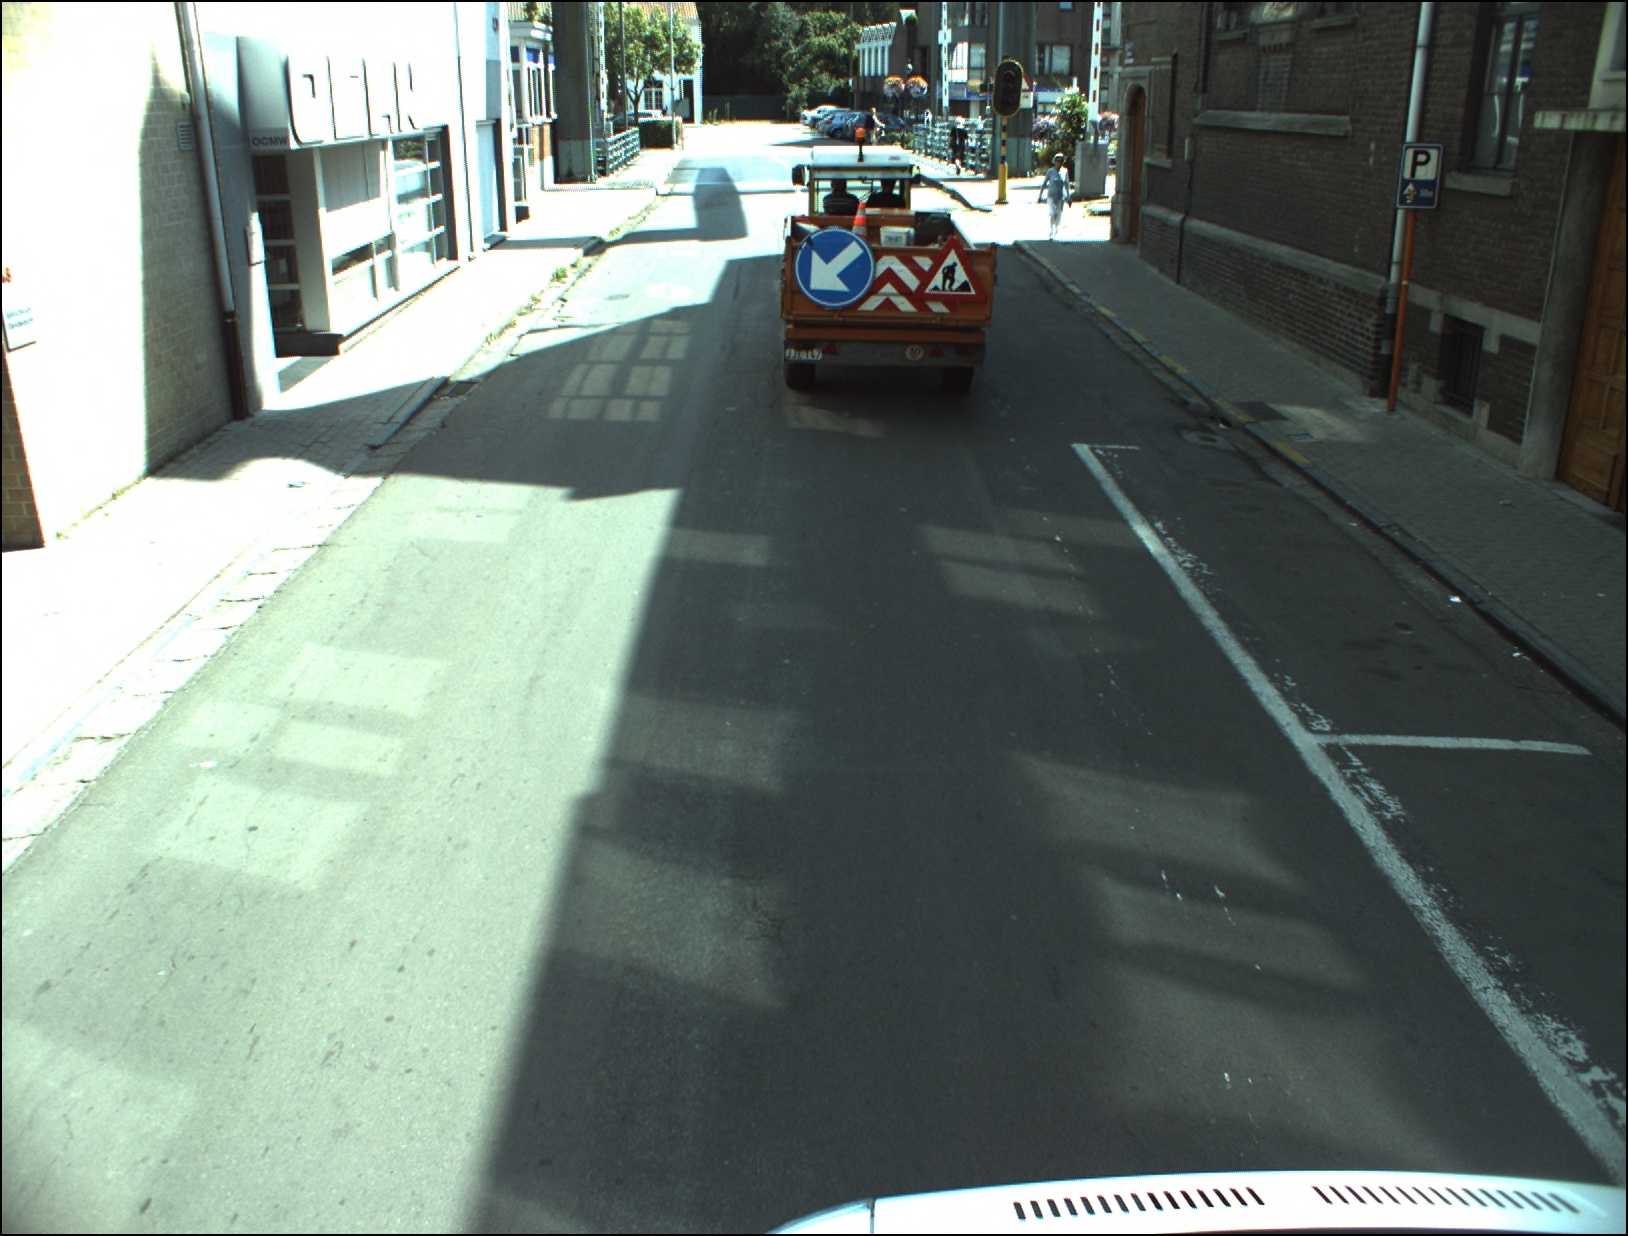construction: (917, 232, 985, 303)
passleft: (795, 232, 874, 306)
